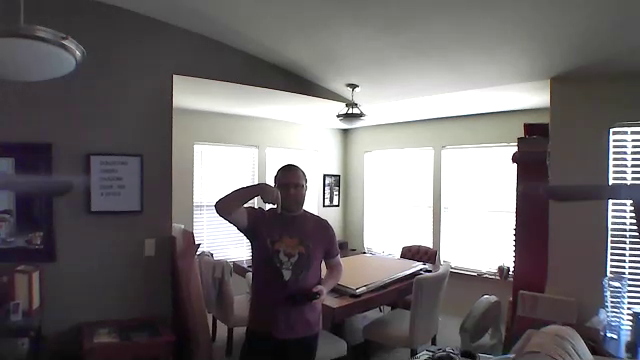down: (256, 175, 287, 215)
